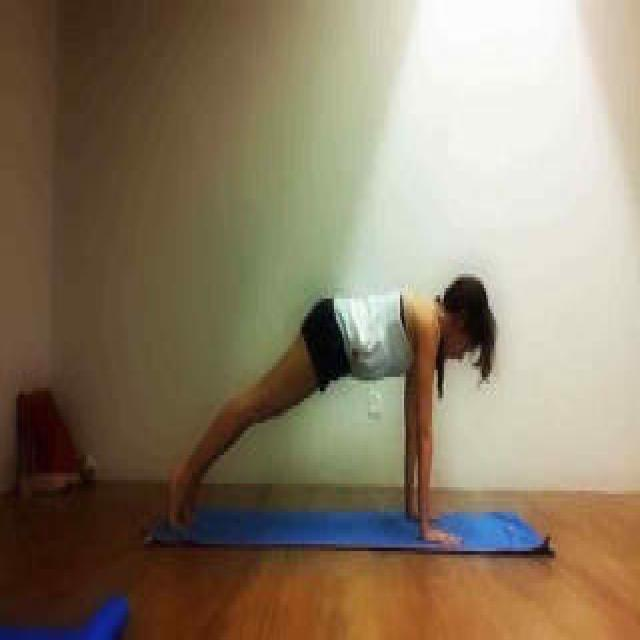yoga-pose plank: (166, 276, 510, 545)
